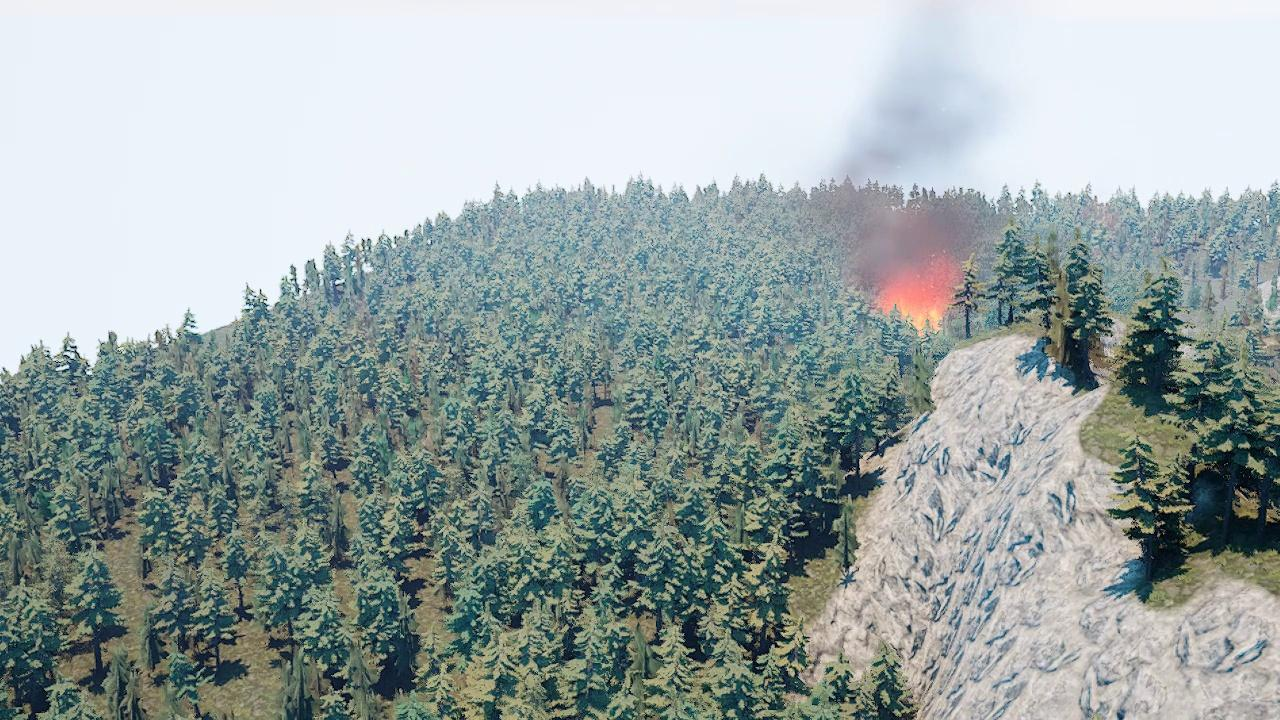fire: (872, 273, 956, 338)
smoke: (804, 17, 1003, 304)
